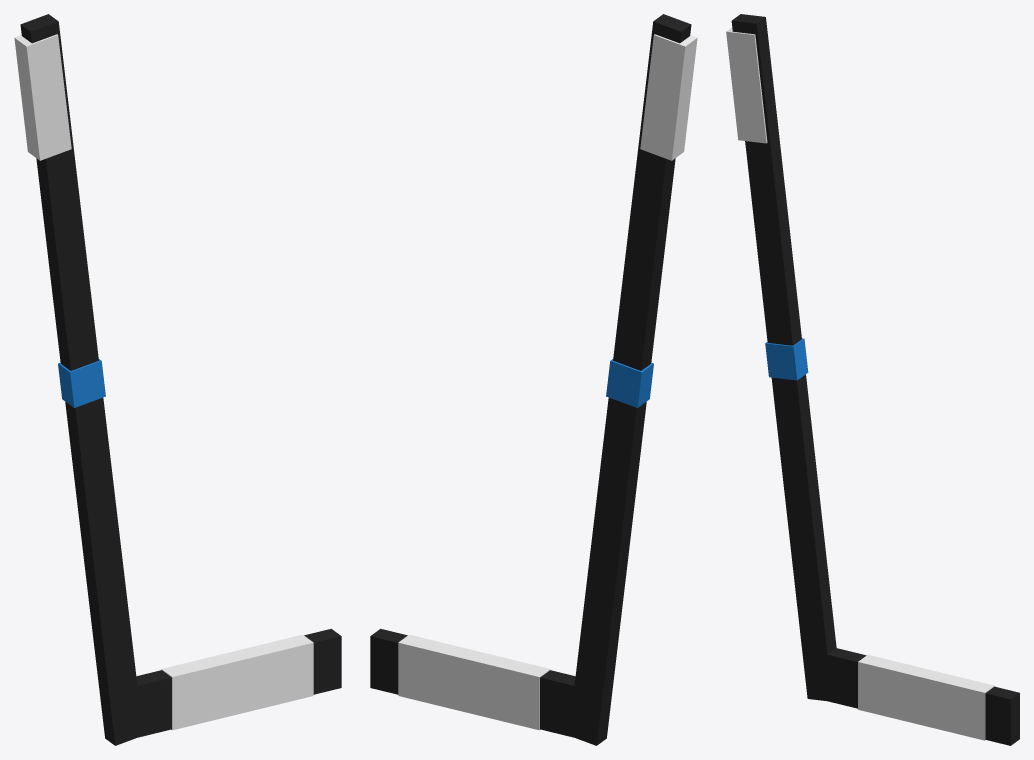
File: hockeyklubba.glb
The picture shows the model from 3 angles, left to right: view 1: azimuth 30°, elevation 25°; view 2: azimuth 150°, elevation 25°; view 3: azimuth 330°, elevation 25°; orthographic projection. The views are drawn at different scales.
Parts seen in each view (by area): view 1: hockeyklubba; view 2: hockeyklubba; view 3: hockeyklubba.
Part boxes in pixels (x1=…): hockeyklubba: x1=14, y1=14, x2=341, y2=745; hockeyklubba: x1=370, y1=14, x2=697, y2=745; hockeyklubba: x1=726, y1=14, x2=1019, y2=745.
Size of the model in its own units: 0.4468 by 0.9976 by 0.03.
